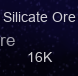Silicate: (2, 10, 77, 65)
